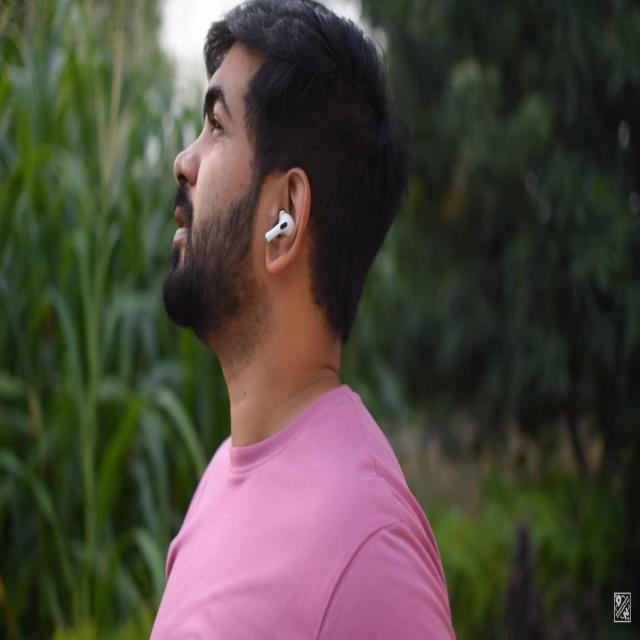airpods: (262, 205, 296, 246)
